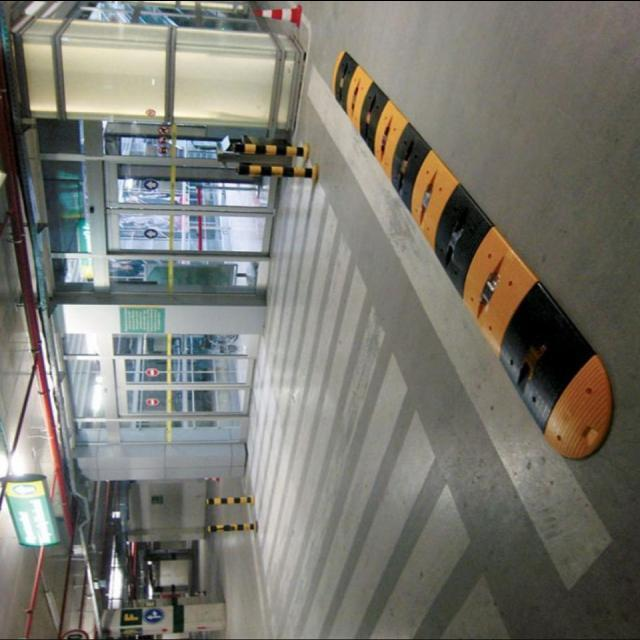speedbreaker: (324, 46, 628, 468)
